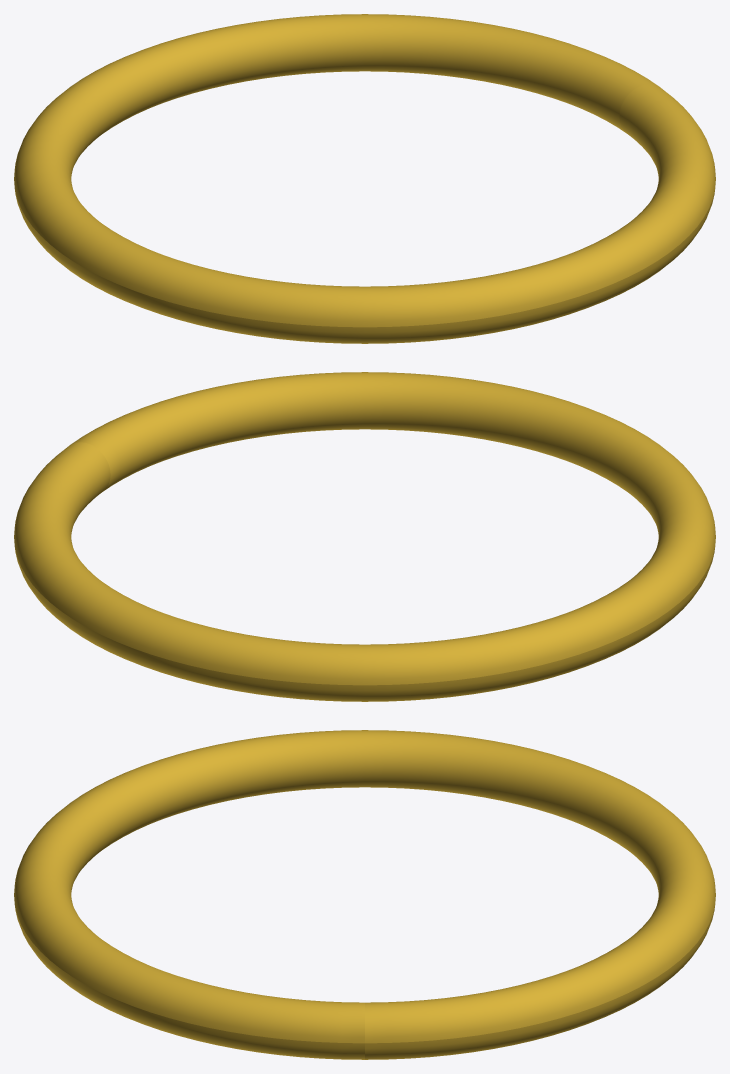
Rendered from earrings.glb.
3 views of the same model, one above another, from view 1: azimuth 30°, elevation 25°; view 2: azimuth 150°, elevation 25°; view 3: azimuth 270°, elevation 25° (orthographic).
Size of the model in its own units: 1.96 by 0.16 by 1.96.
